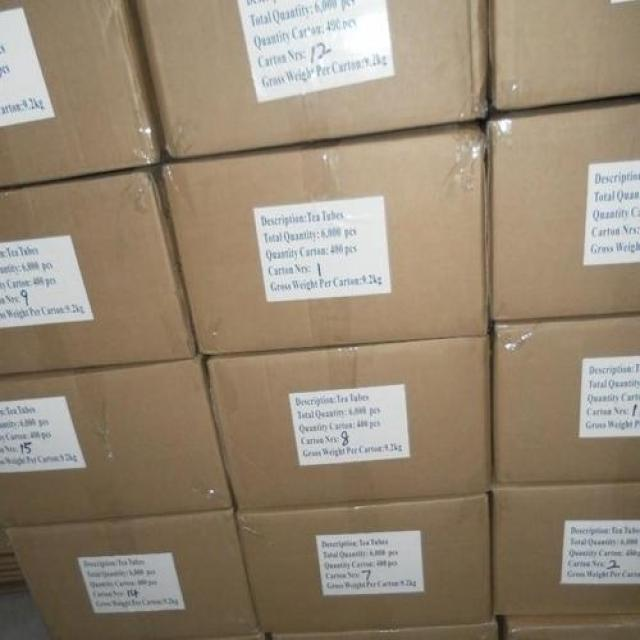box: (161, 121, 490, 355), (133, 1, 489, 160), (206, 336, 490, 507), (0, 166, 197, 376), (0, 353, 233, 527), (233, 491, 494, 635), (486, 97, 639, 322), (3, 509, 261, 639), (1, 0, 164, 187), (489, 313, 638, 480), (488, 480, 638, 614), (488, 0, 638, 111), (271, 621, 499, 639), (504, 614, 639, 639)
